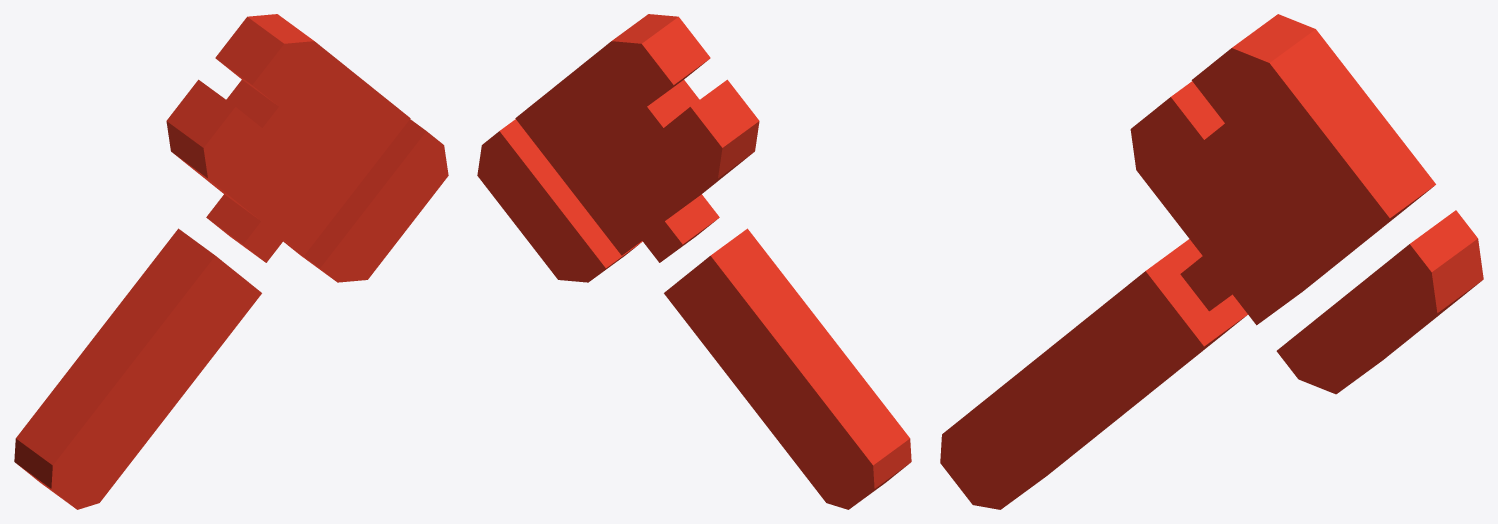
Rendered from Icon_JudgeHammer.fbx.
3 renders of one model, left to right at view 1: azimuth 30°, elevation 25°; view 2: azimuth 150°, elevation 25°; view 3: azimuth 330°, elevation 25°, orthographic. The views are drawn at different scales.
Visible parts, largest first — view 1: Icon_JudgeHammer; view 2: Icon_JudgeHammer; view 3: Icon_JudgeHammer.
Boxes of the visible parts, bbox=[...] form: Icon_JudgeHammer: bbox=[14, 14, 448, 509]; Icon_JudgeHammer: bbox=[477, 14, 911, 509]; Icon_JudgeHammer: bbox=[940, 14, 1483, 509].
Size of the model in its own units: 74.63 by 74.63 by 12.06.
